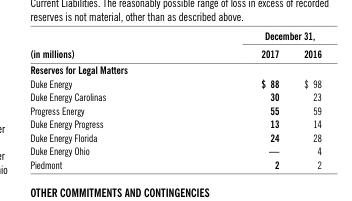table: (29, 28, 320, 170)
table column: (29, 28, 182, 170), (182, 28, 290, 170), (290, 28, 320, 170)
table column header: (29, 28, 320, 61)
table projected row header: (29, 61, 320, 76)
table row: (29, 44, 320, 61), (29, 28, 320, 44), (29, 61, 320, 76), (29, 89, 320, 103), (29, 116, 320, 130), (29, 143, 320, 157), (29, 76, 320, 89), (29, 103, 320, 116), (29, 130, 320, 143), (29, 157, 320, 170)
table spanning cell: (29, 28, 182, 61), (182, 28, 320, 44)
